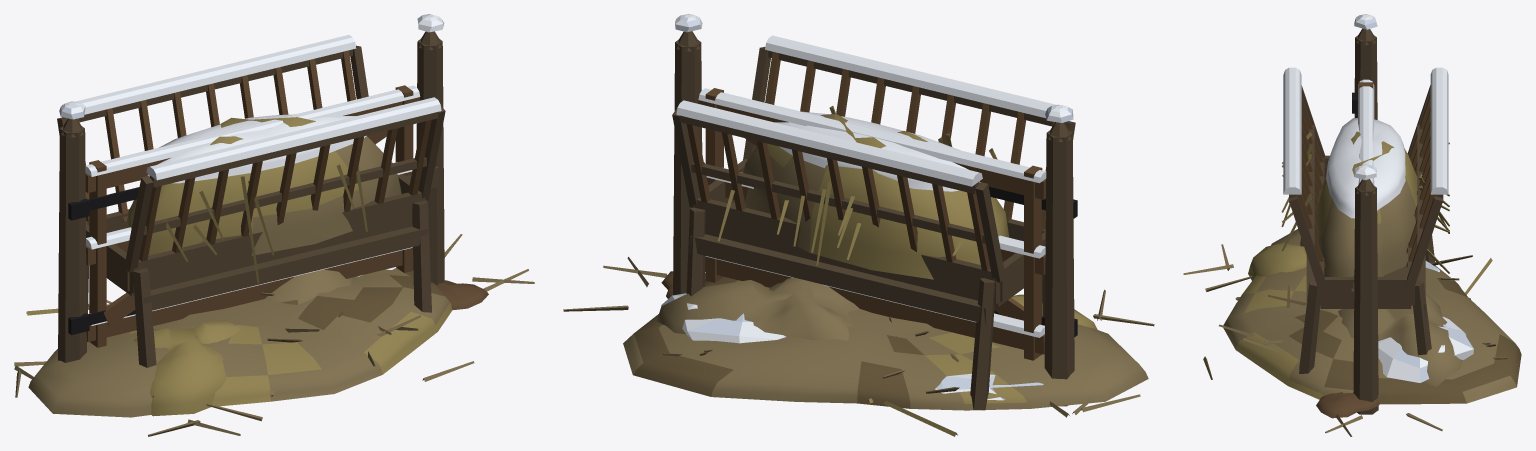
File: fuellung_pferch.glb
3 views of the same model, side by side, from view 1: azimuth 30°, elevation 25°; view 2: azimuth 150°, elevation 25°; view 3: azimuth 270°, elevation 25° (orthographic). The views are drawn at different scales.
Parts seen in each view (by area): view 1: Futterraufe, Strohschuettung, Gatter, Futterraufe_Winter, Gatter_Winter; view 2: Futterraufe, Strohschuettung, Gatter, Futterraufe_Winter, Gatter_Winter, Strohschuettung_Winter; view 3: Strohschuettung, Futterraufe, Futterraufe_Winter, Gatter, Strohschuettung_Winter, Gatter_Winter.
Part boxes in pixels (x1,y1,x2,y2): Futterraufe: (26, 45, 445, 367); Strohschuettung: (14, 234, 534, 436); Gatter: (58, 31, 488, 362); Futterraufe_Winter: (62, 35, 441, 183); Gatter_Winter: (59, 14, 444, 325); Futterraufe: (672, 47, 1075, 436); Strohschuettung: (563, 257, 1154, 417); Gatter: (661, 31, 1077, 406); Futterraufe_Winter: (676, 35, 1056, 191); Gatter_Winter: (675, 14, 1073, 337); Strohschuettung_Winter: (661, 293, 1043, 400); Strohschuettung: (1183, 229, 1521, 436); Futterraufe: (1281, 85, 1492, 373); Futterraufe_Winter: (1283, 67, 1448, 218); Gatter: (1316, 28, 1379, 418); Strohschuettung_Winter: (1378, 261, 1473, 382); Gatter_Winter: (1354, 14, 1377, 185).
Bounding box in the file's own units: 2.82 × 1.48 × 1.86.
